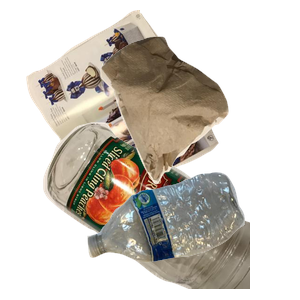glass: (41, 120, 281, 300)
paper: (24, 10, 235, 190)
plastic: (85, 170, 300, 300)
trash: (98, 34, 300, 211)
